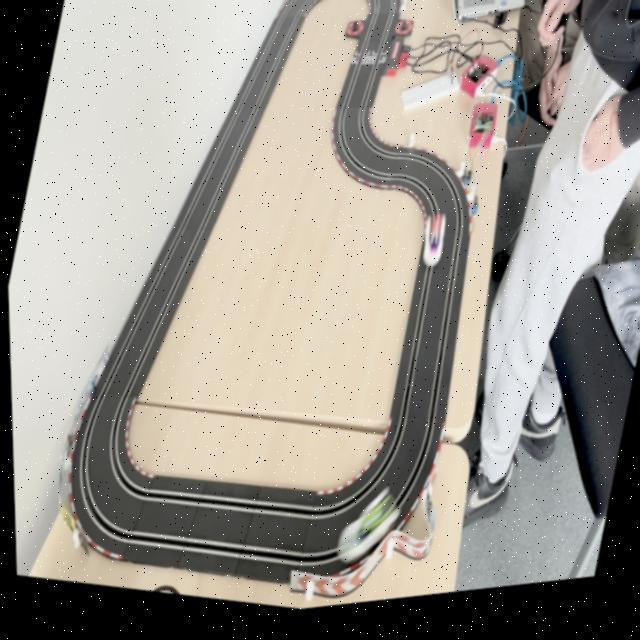mario: (416, 220, 450, 282)
yoshi: (327, 485, 398, 580)
